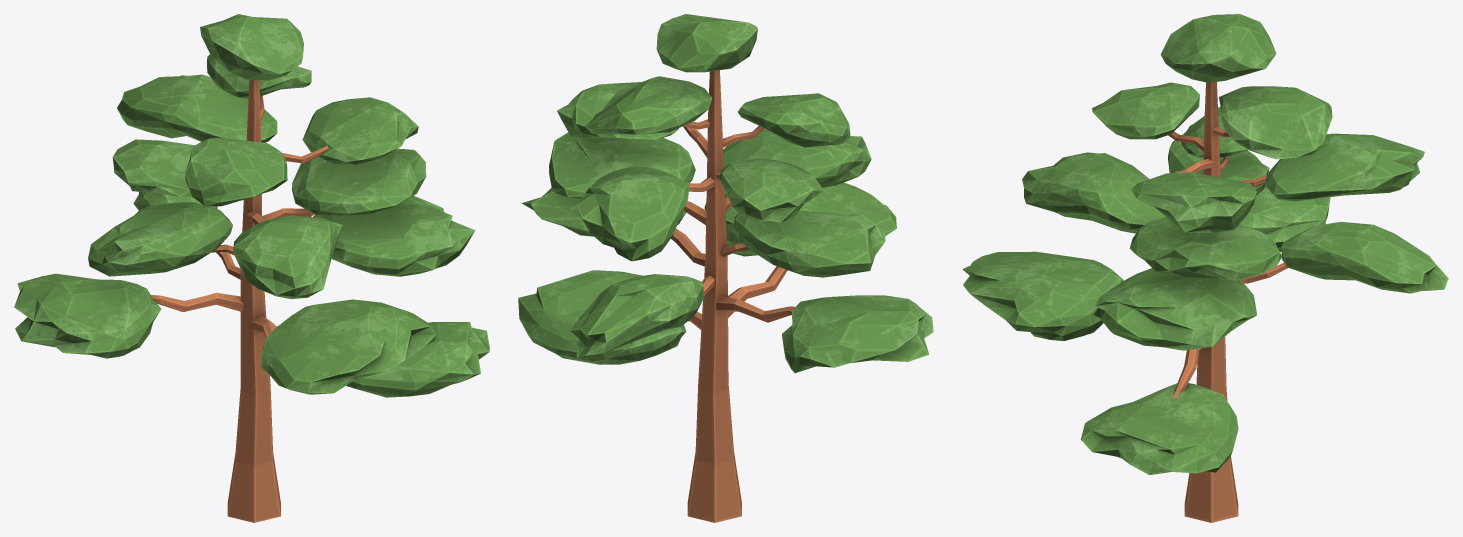
The model's file is BubingaTreeBloom.gltf.
3 views of the same model, side by side, from view 1: azimuth 30°, elevation 25°; view 2: azimuth 150°, elevation 25°; view 3: azimuth 270°, elevation 25° (orthographic).
Parts seen in each view (by area): view 1: node-0; view 2: node-0; view 3: node-0.
Part boxes in pixels (x1=…): node-0: x1=14, y1=14, x2=489, y2=522; node-0: x1=518, y1=14, x2=933, y2=522; node-0: x1=962, y1=14, x2=1448, y2=522.
Size of the model in its own units: 7.38 by 7.87 by 7.14.
1 material, 1 textured.
